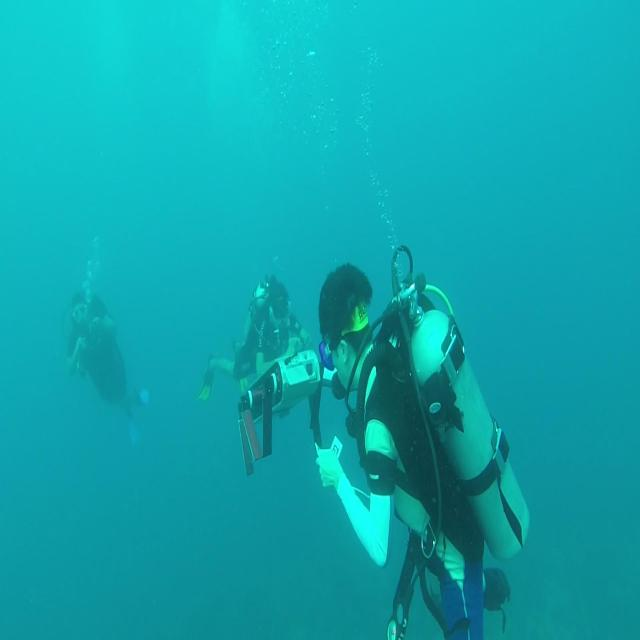human: (314, 260, 530, 638), (197, 274, 310, 402), (62, 287, 146, 418)
